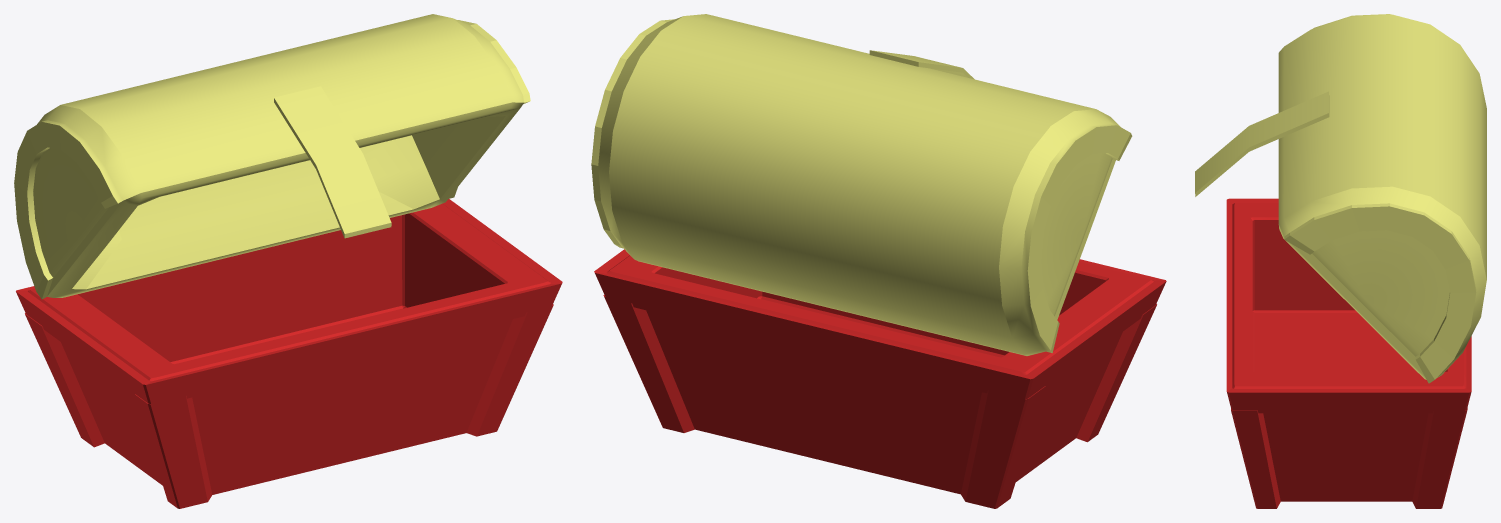
Rendered from Toybox_round_sketch_fbx (1).fbx.
The picture shows the model from 3 angles, left to right: view 1: azimuth 30°, elevation 25°; view 2: azimuth 150°, elevation 25°; view 3: azimuth 270°, elevation 25°; orthographic projection. The views are drawn at different scales.
Parts seen in each view (by area): view 1: pCube6, pCube7; view 2: pCube7, pCube6; view 3: pCube7, pCube6.
Boxes of the visible parts, x1,y1,x2,y2 form: pCube6: (16,199,562,508); pCube7: (14,14,530,299); pCube7: (591,14,1132,355); pCube6: (594,249,1166,508); pCube7: (1195,14,1486,383); pCube6: (1226,198,1471,508).
Size of the model in its own units: 144 by 117 by 91.84.
